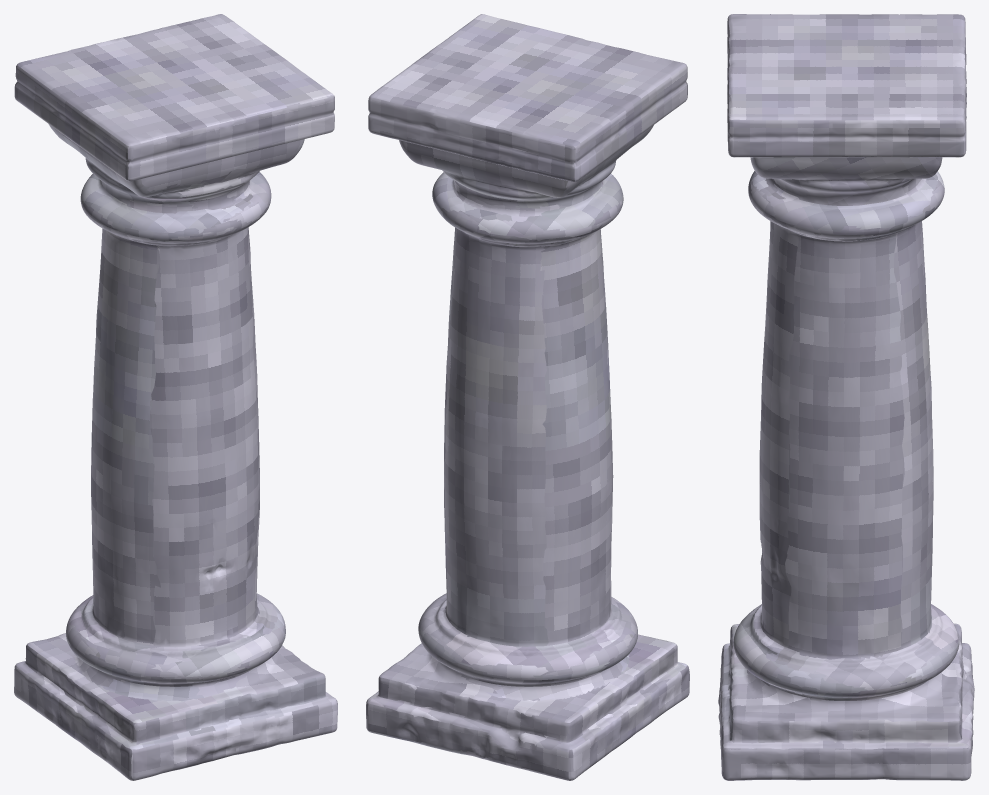
The model's file is weathered-monolith-pillar-generated-2026-04-18T22-01-36-007Z.high.glb.
3 renders of one model, left to right at view 1: azimuth 30°, elevation 25°; view 2: azimuth 150°, elevation 25°; view 3: azimuth 270°, elevation 25°, orthographic. The views are drawn at different scales.
Visible parts, largest first — view 1: temp_mesh.ply; view 2: temp_mesh.ply; view 3: temp_mesh.ply.
Boxes of the visible parts, x1,y1,x2,y2 form: temp_mesh.ply: [14, 14, 337, 780]; temp_mesh.ply: [366, 14, 689, 780]; temp_mesh.ply: [718, 14, 974, 780].
Size of the model in its own units: 0.6844 by 1.97 by 0.6911.
1 material, 1 textured.
